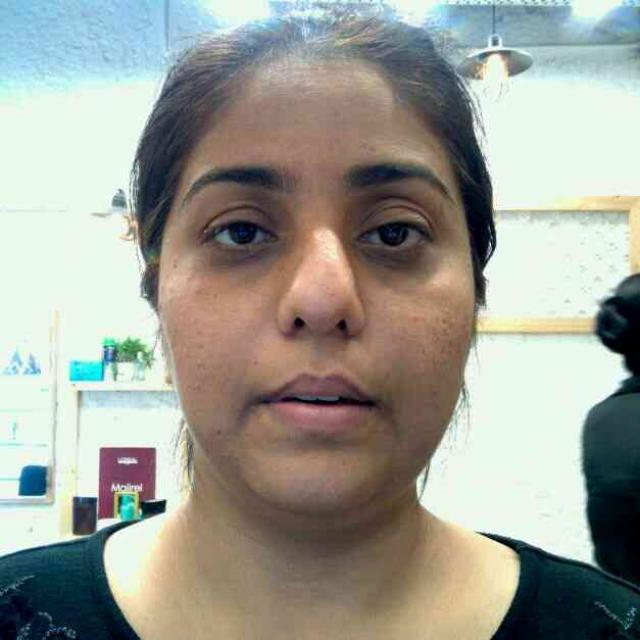puffy_eyes: (194, 242, 285, 286), (358, 241, 433, 286)
